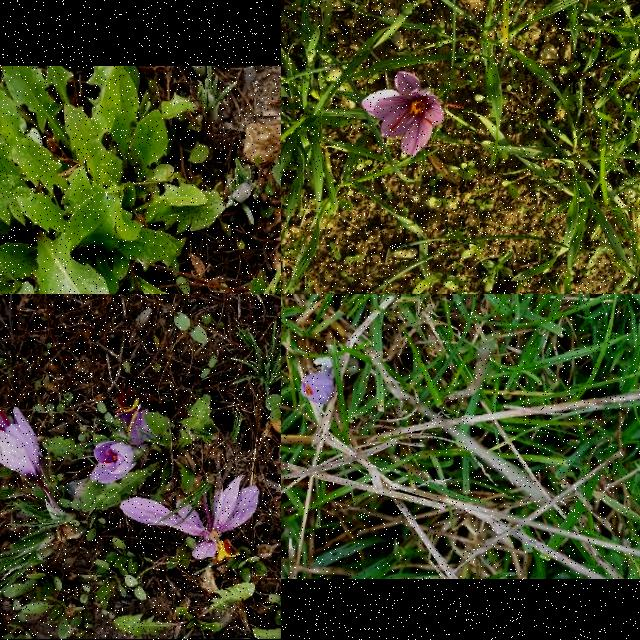flower: (362, 72, 444, 156), (0, 403, 44, 483), (90, 440, 138, 484), (300, 369, 336, 405)
